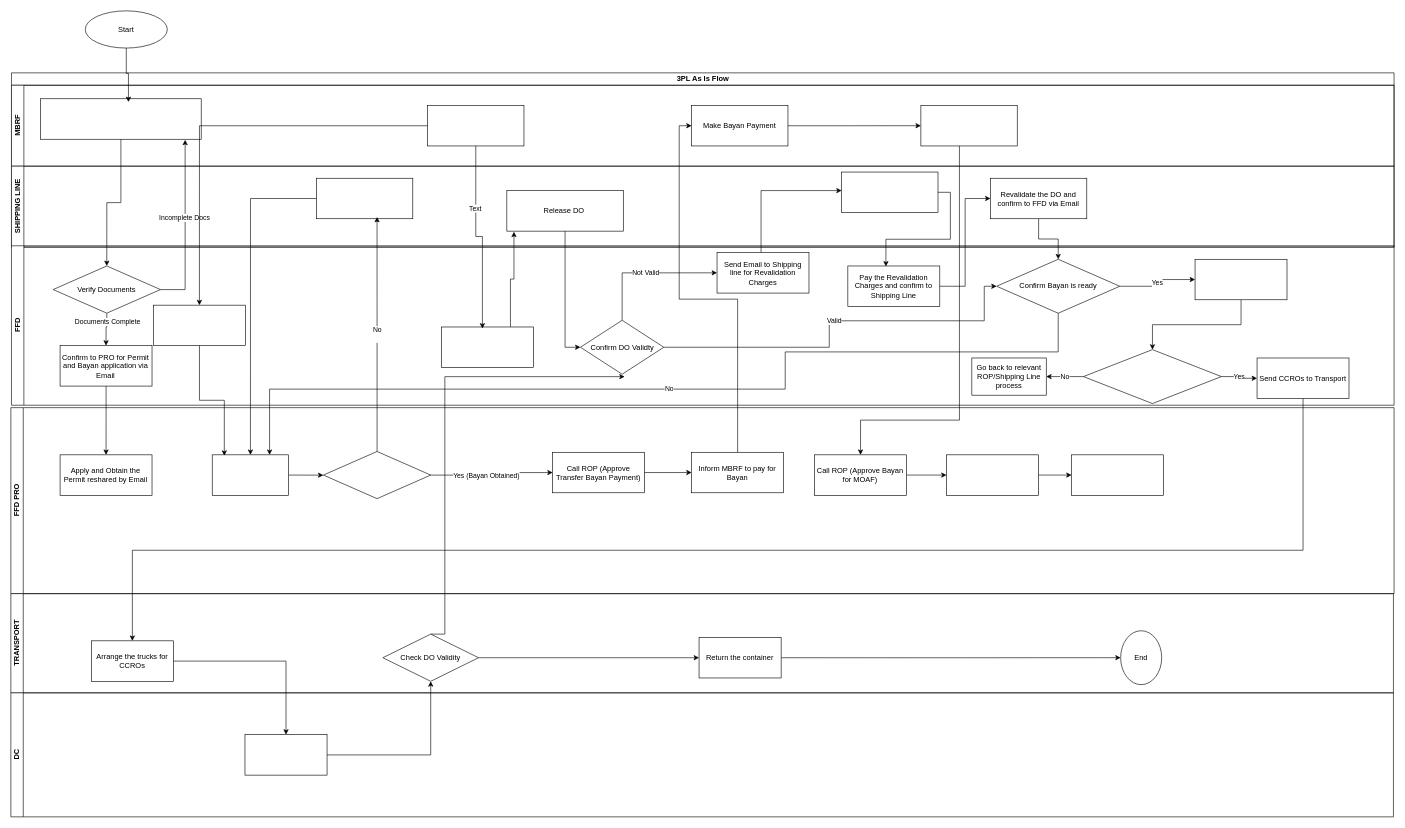
Some shapes in this 1405 by 828 pixel diagram are drawn without their labels. Here are the shapes that lost their labels. From the top down, the centre of each, then its label:
At (x=120, y=118): "Provide Documents to AMLS".
At (x=475, y=125): "Send the Pull out Plan".
At (x=968, y=125): "Inform AMLS that payment is done".
At (x=364, y=198): "Release Manifest".
At (x=889, y=192): "Confirm the Revalidation Charges via Email".
At (x=1240, y=279): "Apply for CCRO".
At (x=199, y=325): "Instrcu tot preapre the Bayans".
At (x=487, y=346): "Apply for DO".
At (x=1152, y=376): "CCRO Accepted?".
At (x=250, y=474): "Apply for Bayan".
At (x=377, y=475): "Manifest Relased?".
At (x=992, y=474): "Call MOAF (Approval for Transfer)".
At (x=1117, y=474): "Call ROP for Final Transfer Approval)".
At (x=285, y=754): "Offload the containers".
